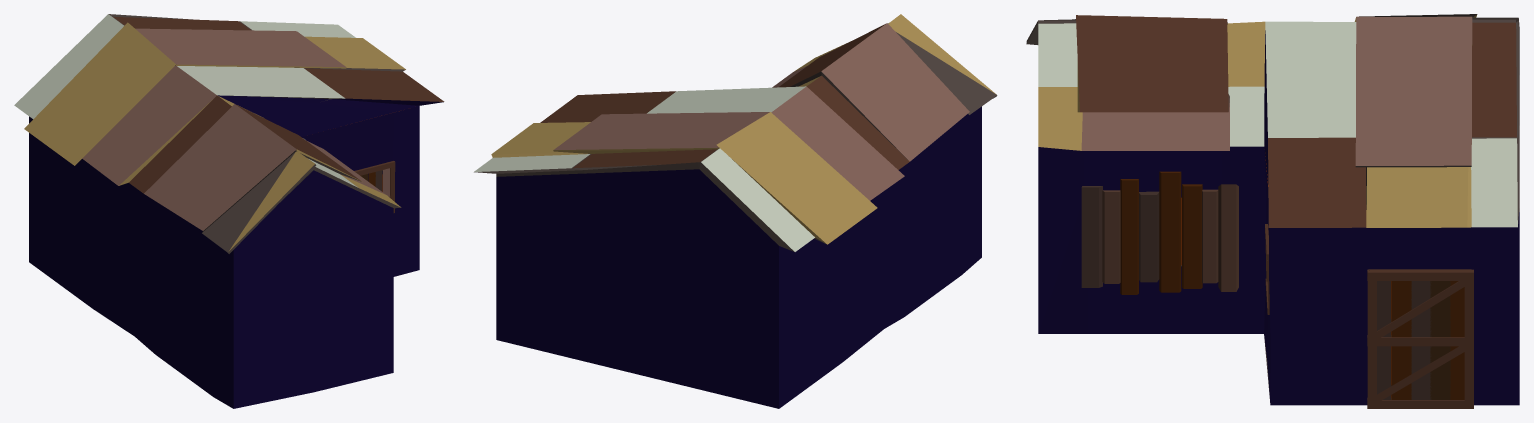
The model's file is waterhousethingfinal.fbx.
The picture shows the model from 3 angles, left to right: view 1: azimuth 30°, elevation 25°; view 2: azimuth 150°, elevation 25°; view 3: azimuth 270°, elevation 25°; orthographic projection. The views are drawn at different scales.
Visible parts, largest first — view 1: Cube; view 2: Cube; view 3: Cube, Cube.001.
Part boxes in pixels (x1=…): Cube: x1=14, y1=14, x2=444, y2=408; Cube: x1=474, y1=14, x2=997, y2=408; Cube: x1=1026, y1=14, x2=1519, y2=408; Cube.001: x1=1081, y1=171, x2=1238, y2=294.
Bounding box in the file's own units: 424 × 279 × 453.
